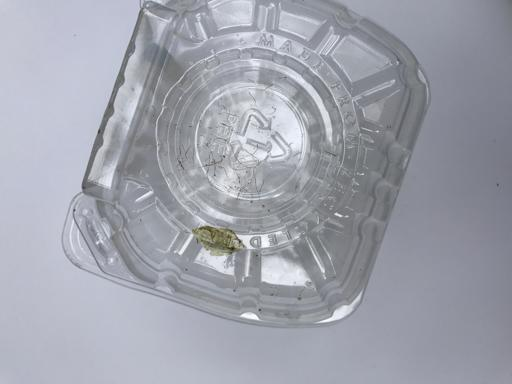bottle: (15, 154, 396, 178)
